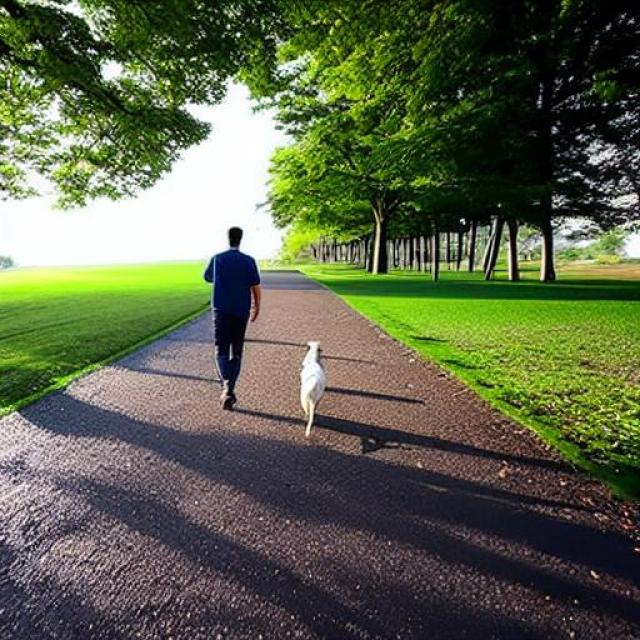Unleashed_Dog: (213, 312, 326, 439)
